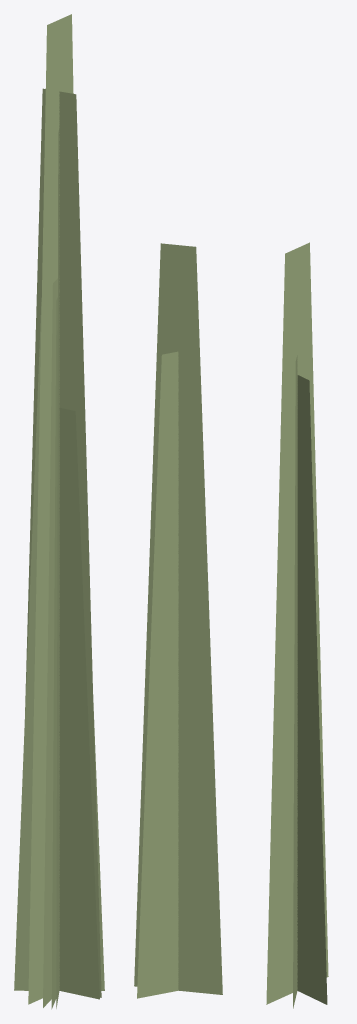
The model's file is rough_tuft_v0_near.gltf.
The picture shows the model from 3 angles, left to right: view 1: azimuth 90°, elevation 25°; view 2: azimuth 210°, elevation 25°; view 3: azimuth 270°, elevation 25°; orthographic projection.
Parts seen in each view (by area): view 1: cover; view 2: cover; view 3: cover.
Part boxes in pixels (x1,y1,x2,y2): cover: [14, 14, 104, 1009]; cover: [134, 243, 222, 998]; cover: [266, 242, 328, 1008].
Size of the model in its own units: 0.0499 by 0.5903 by 0.05.
